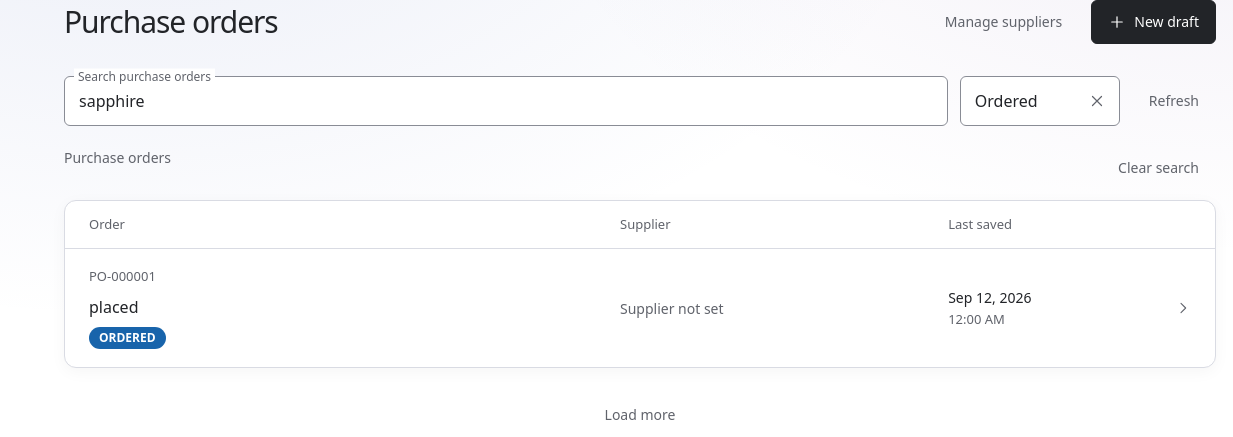
restores purchase traversal and records scrolling before refreshing from page one
(page scrolled)
Expected: the search field holds "sapphire", 64,76 -> 948,126
Expected: the dropdown named "Order status" shows "Ordered", 960,76 -> 1120,126
Click the button "Refresh" at (1174, 101), box 1132,76 -> 1216,126
(page scrolled)
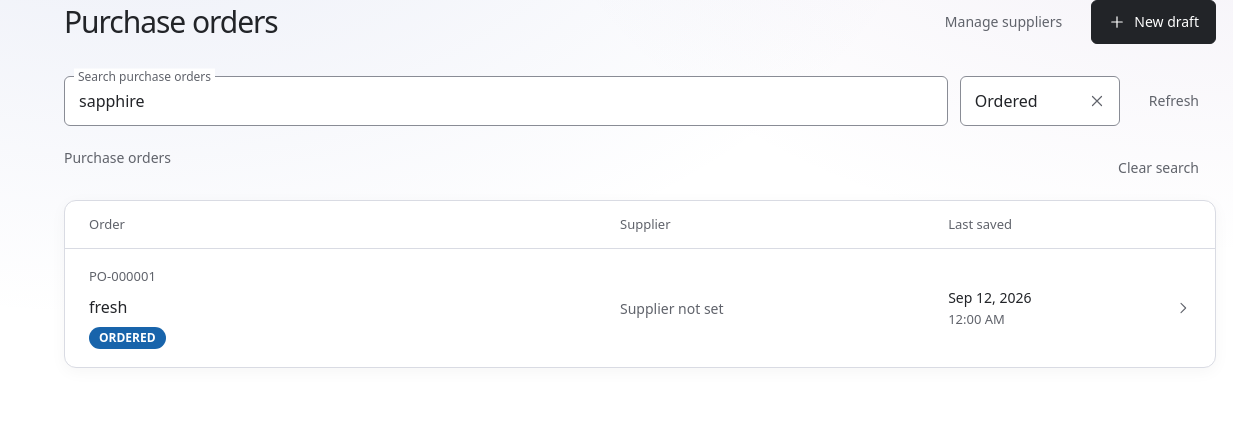
Now the link "fresh" is shown, box 65,249 -> 1215,367
